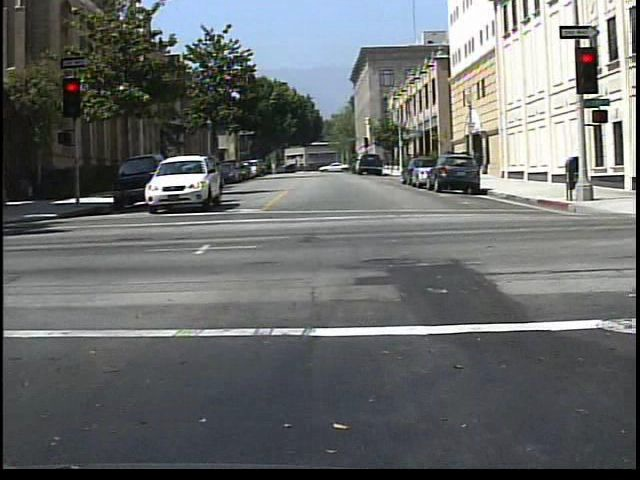person: (266, 158, 281, 181)
